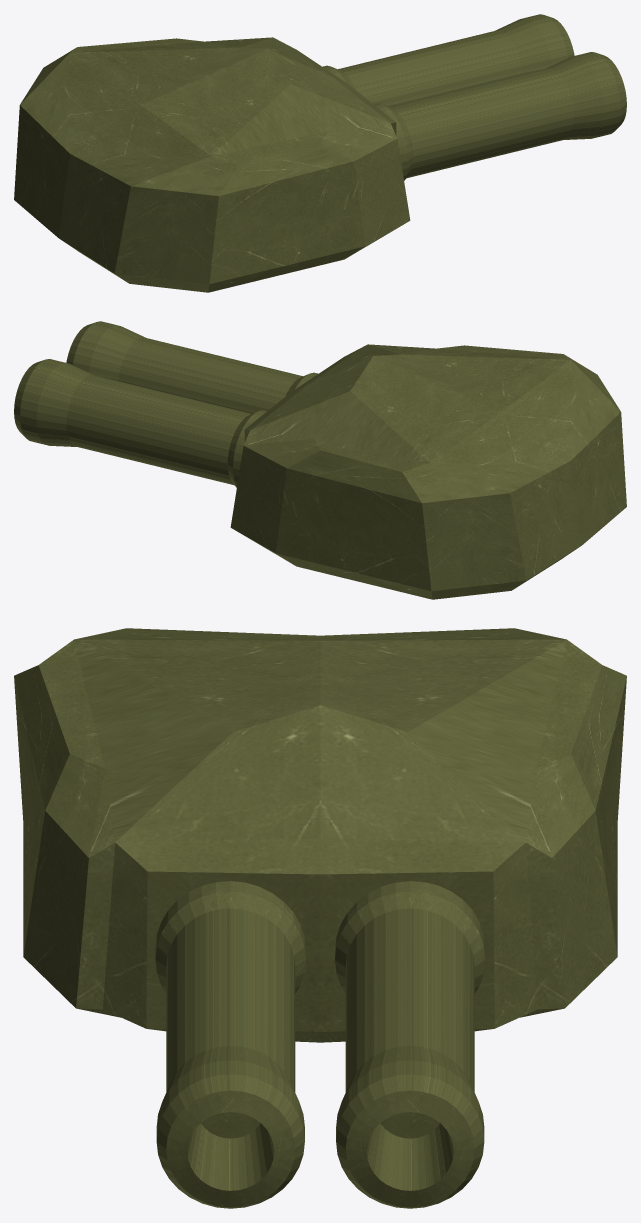
Rendered from Shotgun.fbx.
The picture shows the model from 3 angles, top to bottom: view 1: azimuth 30°, elevation 25°; view 2: azimuth 150°, elevation 25°; view 3: azimuth 270°, elevation 25°; orthographic projection. The views are drawn at different scales.
Visible parts, largest first — view 1: DoubleBarrel; view 2: DoubleBarrel; view 3: DoubleBarrel.
Part boxes in pixels (x1,y1,x2,y2): DoubleBarrel: (14,14,626,292); DoubleBarrel: (14,321,626,599); DoubleBarrel: (14,628,626,1208).
Size of the model in its own units: 1596 by 564 by 920.
